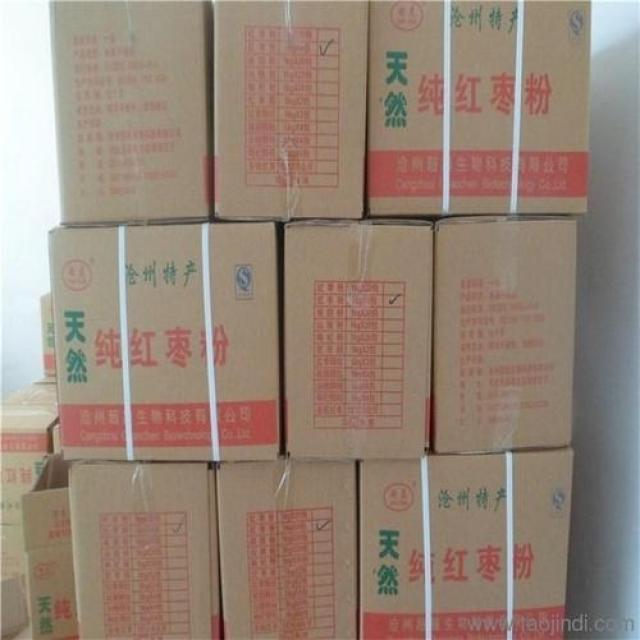box: (47, 217, 281, 461), (366, 0, 591, 218), (358, 445, 574, 639), (48, 0, 214, 227), (285, 219, 434, 459), (431, 215, 577, 453), (214, 0, 370, 222), (68, 461, 224, 639), (216, 454, 358, 639), (20, 454, 81, 639), (0, 383, 59, 453), (0, 453, 53, 525), (0, 576, 32, 639), (0, 525, 25, 582), (41, 292, 56, 376), (52, 424, 62, 454), (33, 375, 56, 383)
